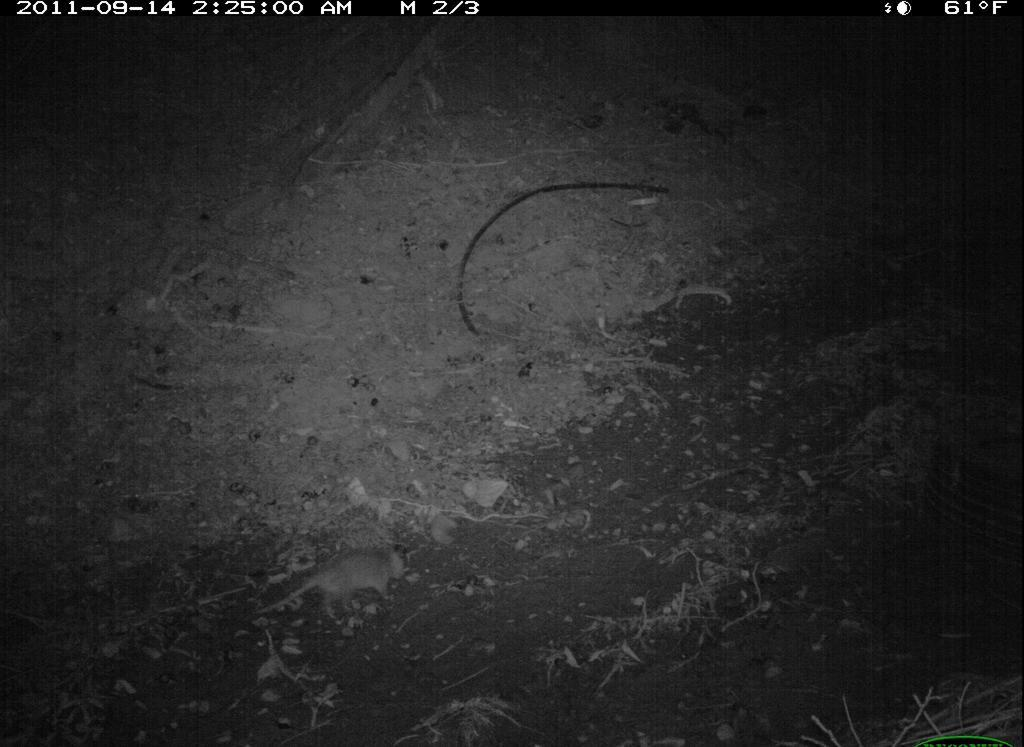opossum: (245, 534, 424, 632)
